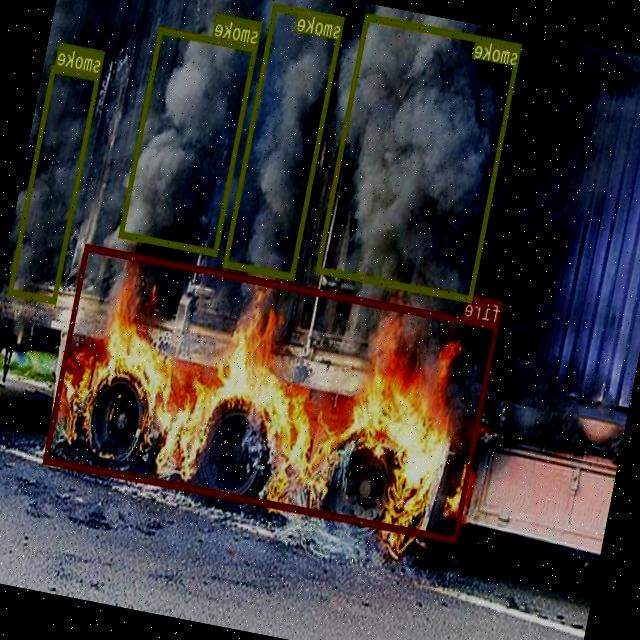fire: (44, 244, 501, 544)
smoke: (316, 14, 522, 302), (224, 2, 346, 279), (120, 26, 258, 256), (8, 65, 102, 304)
